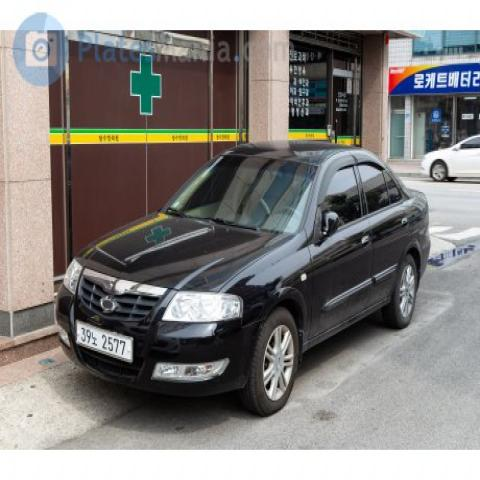LP: (72, 313, 138, 370)
